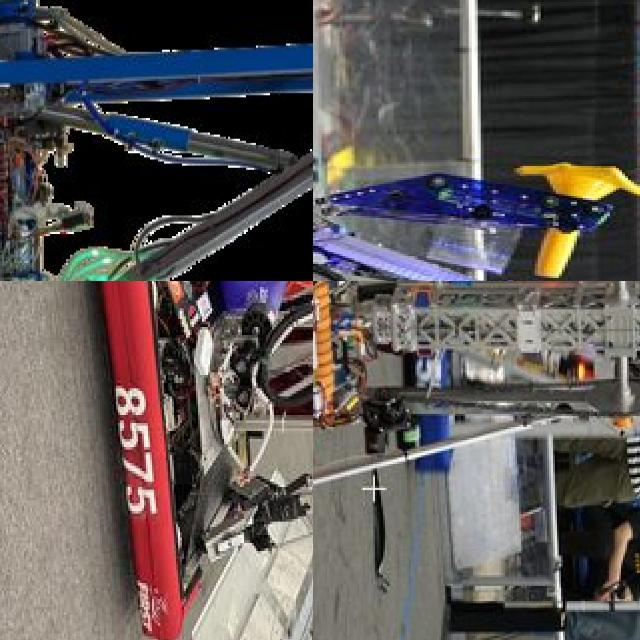FRC-Robots: (313, 281, 640, 634), (66, 281, 313, 640), (0, 0, 313, 281), (313, 104, 640, 281)
